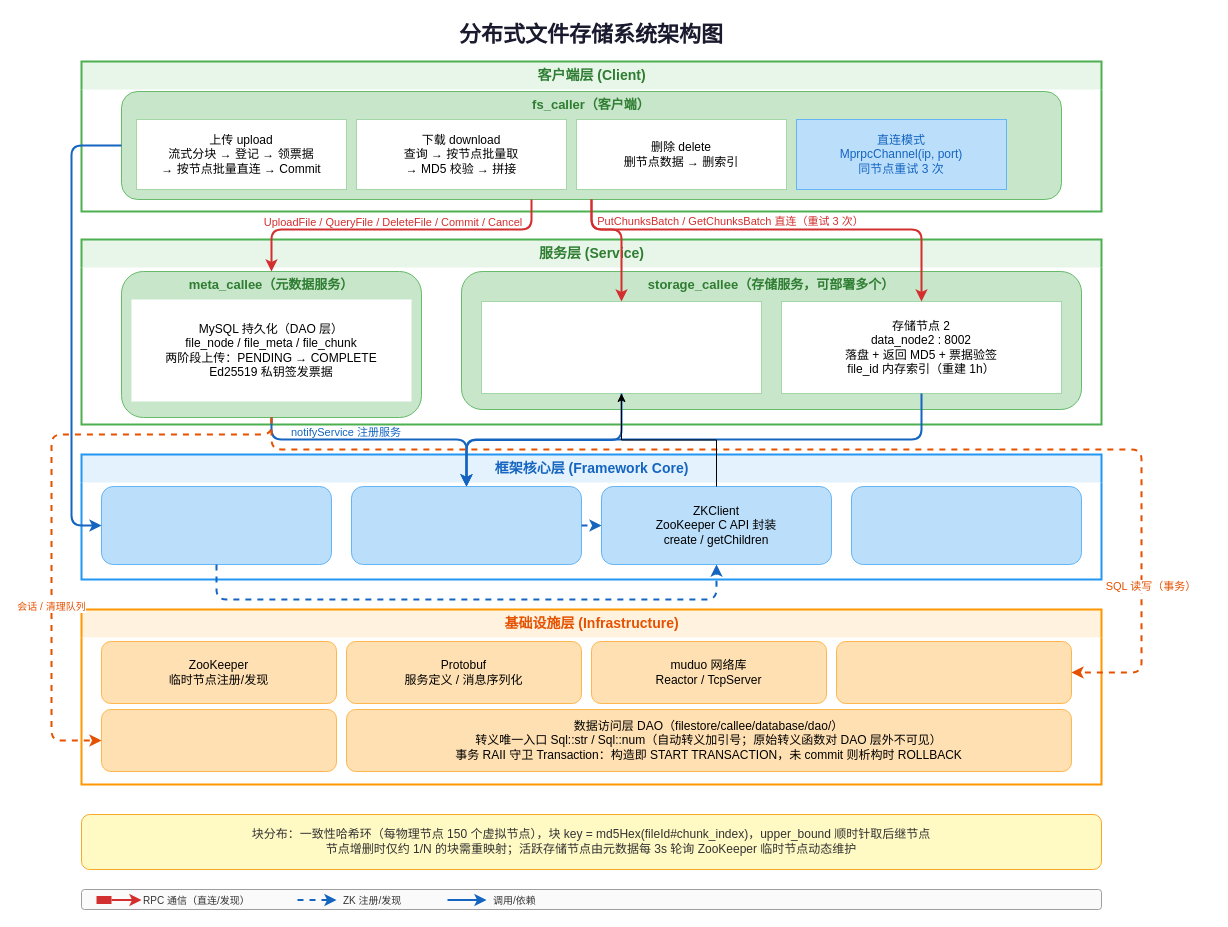
Image size: 1228x927. Some labels were removed from this diagram. Here are the shapes that lost their labels. From the top down, the centre of each, then its label:
pixel 621 347: 存储节点 1 data_node1 : 8001 落盘 + 返回 MD5 + 票据验签 file_id 内存索引（重建 1h）
pixel 216 525: MprpcChannel 直连 + ZooKeeper 发现双模式
pixel 466 525: RpcProvider muduo TcpServer（4 I/O 线程） 业务线程池 rpc_worker_threads signalfd 优雅退出
pixel 966 525: Logger（异步日志） 独立写线程 + LockQueue 批量 drain 落盘
pixel 954 672: MySQL（filestore 库） user / file_node / file_meta file_chunk / cleanup_queue
pixel 218 740: Redis 会话 token（登录态） cleanup_queue Stream（待清理队列）
